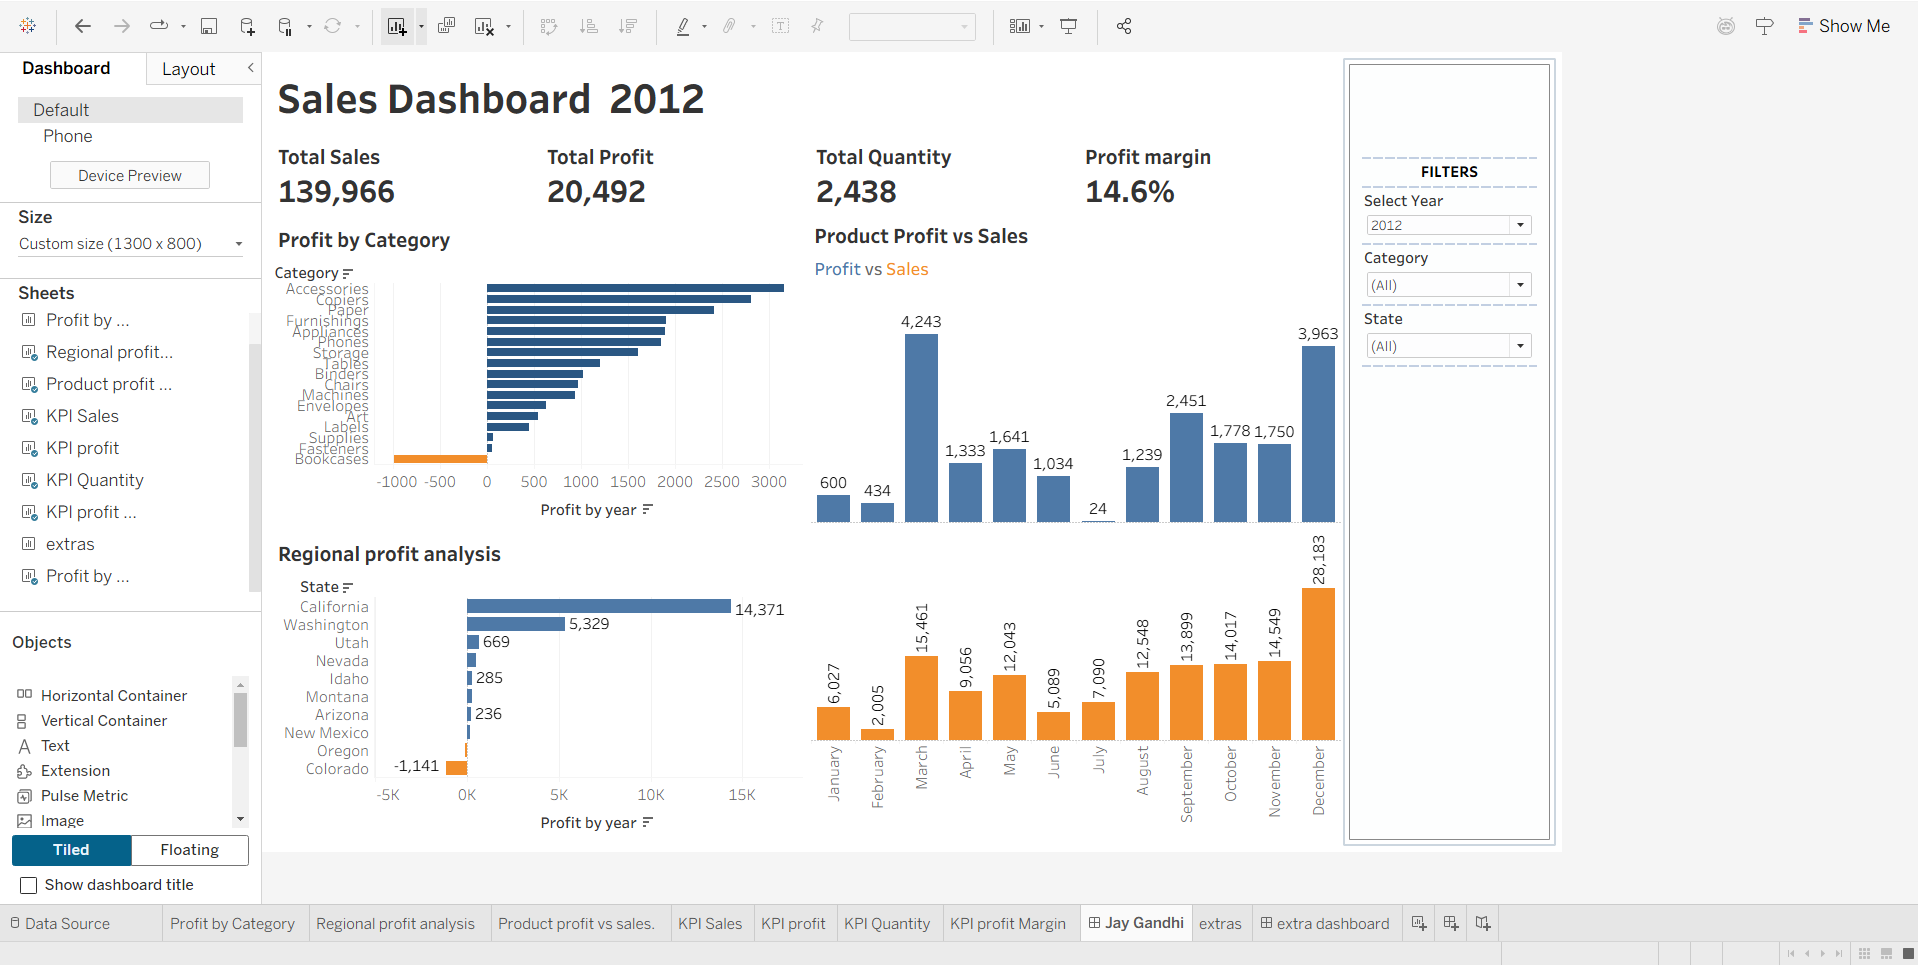

The page's visual inventory and layout, read from the dashboard file:
{"tool":"tableau","page":{"name":"Jay Gandhi","canvas":[1300,800],"ordinal":0},"visuals":[{"type":"text","box":[8,8,1075,74]},{"type":"blank","box":[1098,23,179,82]},{"type":"worksheet","title":"KPI Sales","mark":"Automatic","box":[8,82,269,83]},{"type":"worksheet","title":"KPI profit","mark":"Automatic","box":[277,82,269,83]},{"type":"worksheet","title":"KPI Quantity","mark":"Automatic","box":[546,82,269,83]},{"type":"worksheet","title":"KPI profit Margin","mark":"Automatic","box":[815,82,268,83]},{"type":"text","box":[1098,105,179,29]},{"type":"parameter","param":"[Parameters].[Parameter 2]","box":[1098,134,179,57]},{"type":"worksheet","title":"Profit by Category (2)","mark":"Automatic","rows":["Category"],"cols":["Calculation_1236801077627543553"],"box":[8,165,537,314]},{"type":"text","box":[545.5,165,537.5,35]},{"type":"filter","title":"Profit by Category (2)","param":"[federated.0yc3zuj0cu6m1213de3aq17i0brb].[none:Category:nk]","box":[1098,191,179,61]},{"type":"text","box":[545.5,200,537.5,32]},{"type":"worksheet","title":"Product profit vs sales.","mark":"Bar","rows":["Calculation_1236801077627543553","Profit of 2011 (copy)_1236801077627842562"],"cols":["Order Date"],"box":[545.5,232,537.5,560]},{"type":"filter","title":"Regional profit analysis","param":"[federated.0yc3zuj0cu6m1213de3aq17i0brb].[none:Geography - Split 2:nk]","box":[1098,252,179,61]},{"type":"worksheet","title":"Regional profit analysis","mark":"Bar","rows":["Geography - Split 2"],"cols":["Calculation_1236801077627543553"],"box":[8,479,537,313]}]}

Visuals, with their boxes on the page's 1300x800 design canvas (x1, y1, x2, y2). These are canvas units, not pixel positions in the 1918x965 screenshot, which may show the page scaled, cropped or inside an application window:
text: [8, 8, 1083, 82]
blank: [1098, 23, 1277, 105]
"KPI Sales" worksheet: [8, 82, 277, 165]
"KPI profit" worksheet: [277, 82, 546, 165]
"KPI Quantity" worksheet: [546, 82, 815, 165]
"KPI profit Margin" worksheet: [815, 82, 1083, 165]
text: [1098, 105, 1277, 134]
parameter: [1098, 134, 1277, 191]
"Profit by Category (2)" worksheet: [8, 165, 545, 479]
text: [546, 165, 1083, 200]
"Profit by Category (2)" filter: [1098, 191, 1277, 252]
text: [546, 200, 1083, 232]
"Product profit vs sales." worksheet (Bar marks): [546, 232, 1083, 792]
"Regional profit analysis" filter: [1098, 252, 1277, 313]
"Regional profit analysis" worksheet (Bar marks): [8, 479, 545, 792]
